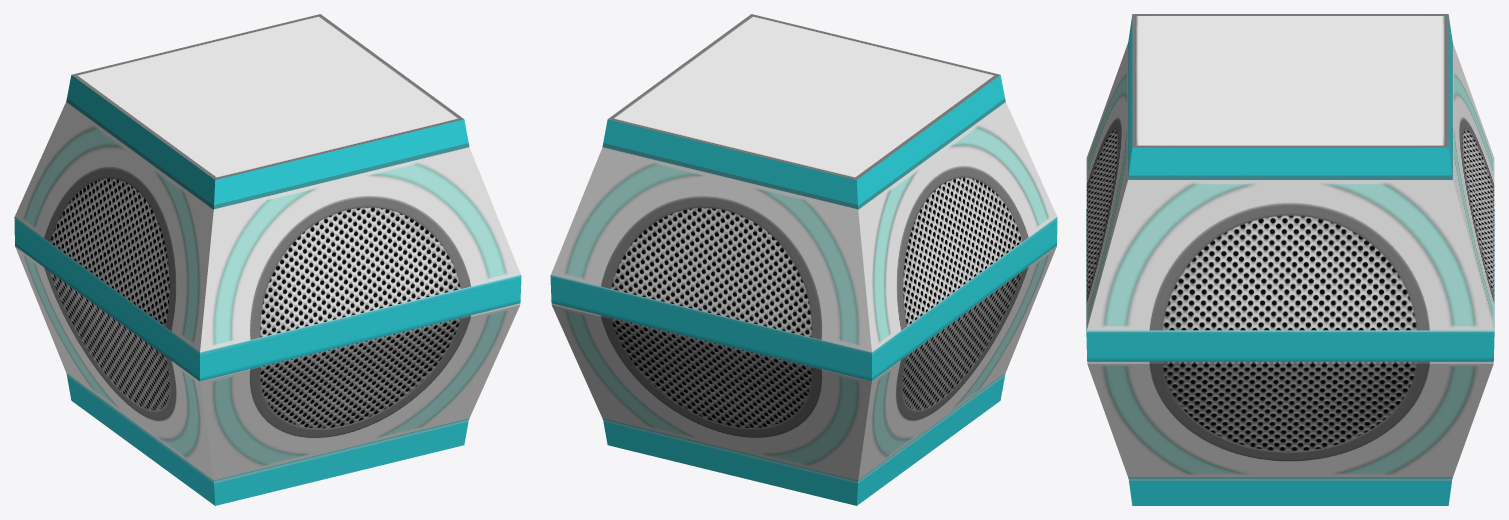
File: anchor_tooru.fbx
3 renders of one model, left to right at view 1: azimuth 30°, elevation 25°; view 2: azimuth 150°, elevation 25°; view 3: azimuth 270°, elevation 25°, orthographic. The views are drawn at different scales.
Parts seen in each view (by area): view 1: pCube1; view 2: pCube1; view 3: pCube1.
Boxes of the visible parts, bbox=[...] form: pCube1: bbox=[14, 14, 521, 505]; pCube1: bbox=[550, 14, 1057, 505]; pCube1: bbox=[1086, 14, 1494, 505].
Bounding box in the file's own units: 1.97 × 1.9 × 1.97.
Materials: 2 (2 with a texture image).
